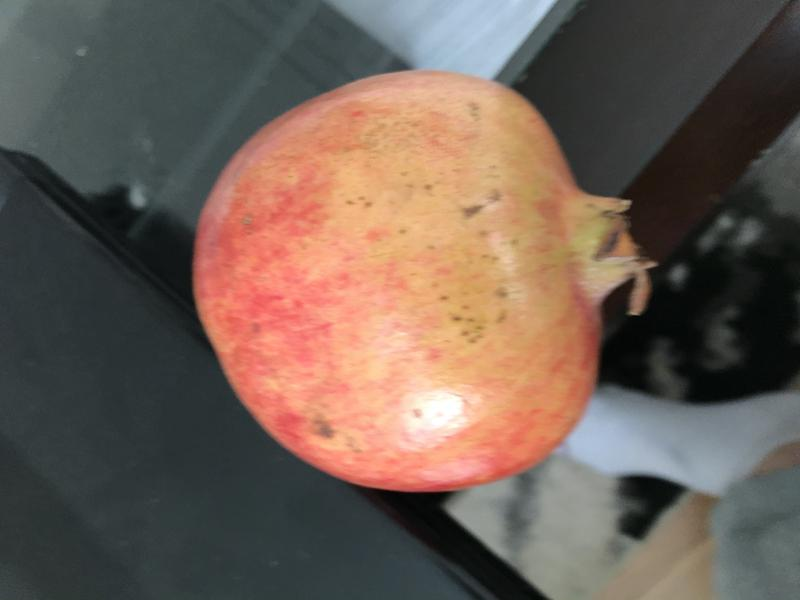pomegranate: (171, 62, 670, 510)
